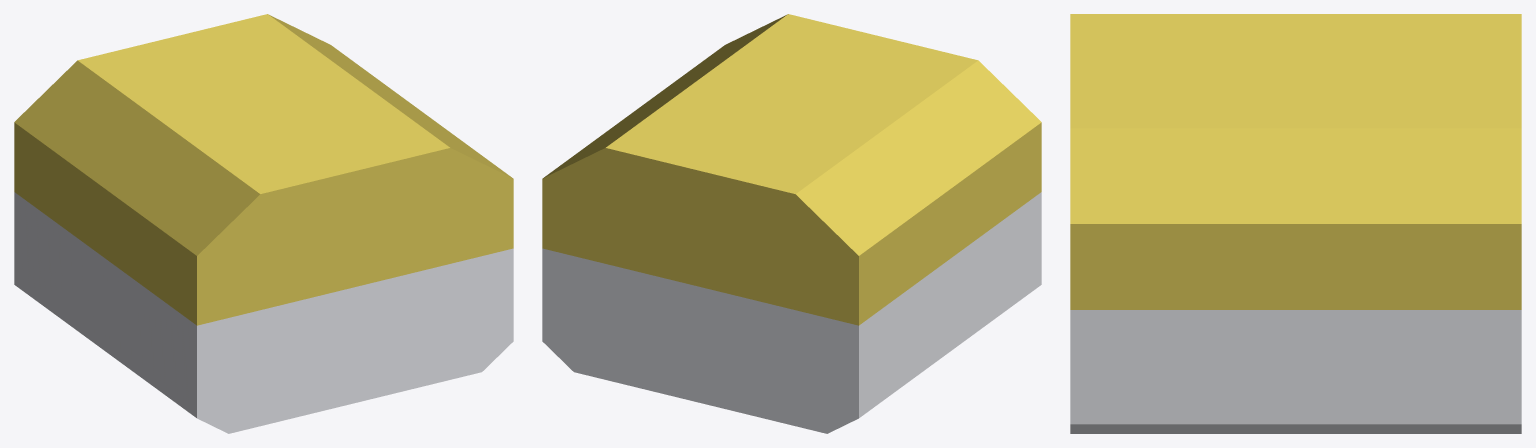
The model's file is Charging_Station_Stand-in.fbx.
3 views of the same model, side by side, from view 1: azimuth 30°, elevation 25°; view 2: azimuth 150°, elevation 25°; view 3: azimuth 270°, elevation 25° (orthographic). The views are drawn at different scales.
Parts seen in each view (by area): view 1: Charging_Station_Stand-in.001; view 2: Charging_Station_Stand-in.001; view 3: Charging_Station_Stand-in.001.
Part boxes in pixels (x1,y1,x2,y2): Charging_Station_Stand-in.001: [14, 14, 513, 433]; Charging_Station_Stand-in.001: [542, 14, 1041, 433]; Charging_Station_Stand-in.001: [1070, 14, 1521, 433].
Size of the model in its own units: 100 by 70 by 100.
